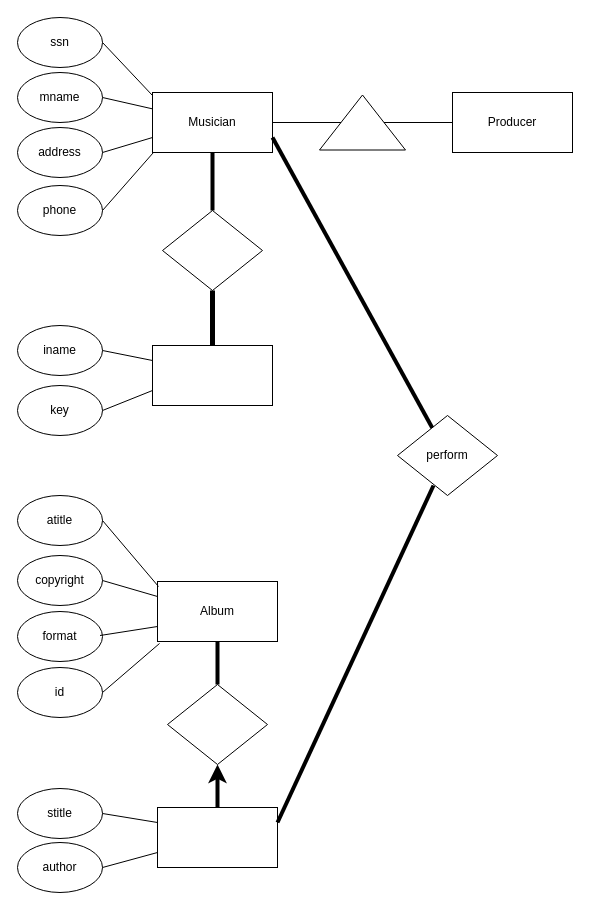
Some shapes in this 590 by 910 pixel diagram are drawn without their labels. Each missing label, with the centre of its shape:
has: point 217,724
Instrument: point 212,375
ISA: point 362,122
plays: point 212,250
Song: point 217,837
